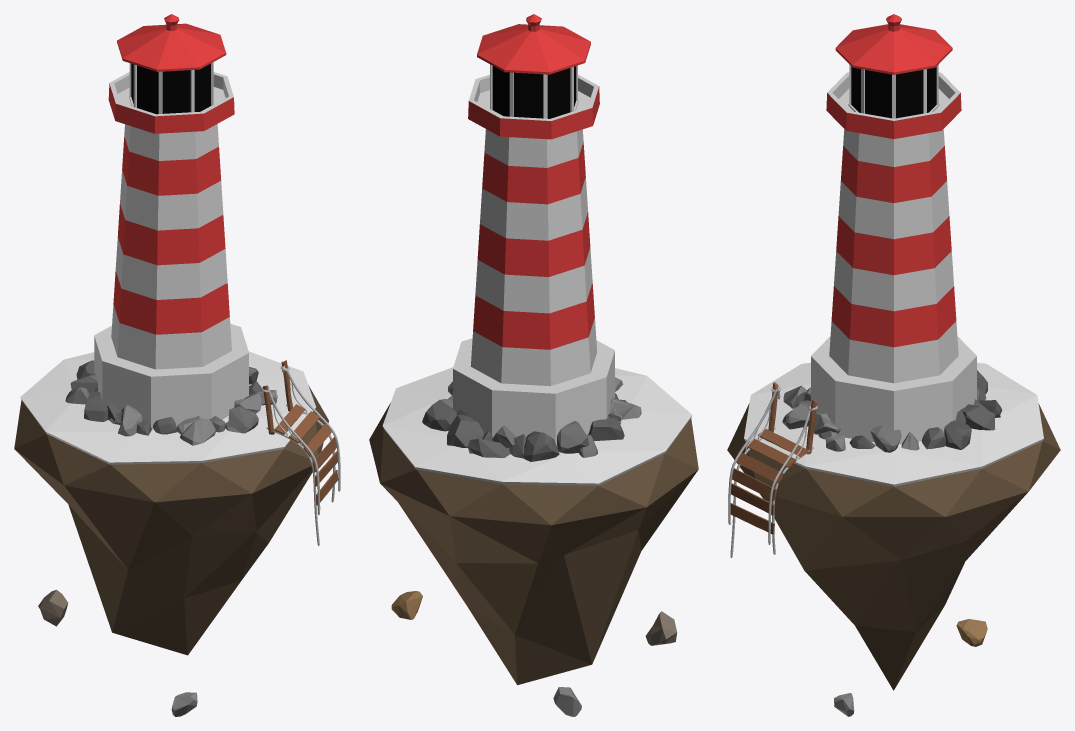
The model's file is lighthouse.glb.
The picture shows the model from 3 angles, left to right: view 1: azimuth 30°, elevation 25°; view 2: azimuth 150°, elevation 25°; view 3: azimuth 270°, elevation 25°; orthographic projection. The views are drawn at different scales.
Visible parts, largest first — view 1: lighthouse, ground_05, field_02, stone_03, bridge_002, bridge_01_rope001, stone_04; view 2: lighthouse, ground_05, field_02, stone_03, stone_04, stone_02, stone_01; view 3: lighthouse, ground_05, field_02, stone_03, bridge_002, bridge_01_rope001, stone_02.
Boxes of the visible parts, left/top/right/bottom form: lighthouse: left=94, top=14, right=248, bottom=429; ground_05: left=14, top=385, right=328, bottom=655; field_02: left=20, top=351, right=316, bottom=464; stone_03: left=65, top=360, right=277, bottom=445; bridge_002: left=263, top=360, right=338, bottom=505; bridge_01_rope001: left=262, top=365, right=340, bottom=545; stone_04: left=38, top=589, right=68, bottom=626; lighthouse: left=453, top=14, right=614, bottom=447; ground_05: left=369, top=402, right=698, bottom=684; field_02: left=382, top=367, right=692, bottom=485; stone_03: left=422, top=377, right=641, bottom=461; stone_04: left=645, top=611, right=677, bottom=645; stone_02: left=391, top=591, right=422, bottom=619; stone_01: left=553, top=687, right=581, bottom=716; lighthouse: left=811, top=14, right=976, bottom=444; ground_05: left=727, top=403, right=1060, bottom=690; field_02: left=744, top=362, right=1043, bottom=486; stone_03: left=782, top=370, right=1001, bottom=452; bridge_002: left=730, top=382, right=816, bottom=534; bridge_01_rope001: left=728, top=386, right=817, bottom=557; stone_02: left=956, top=619, right=987, bottom=646.
Size of the model in its own units: 0.4811 by 1.18 by 0.5025.
